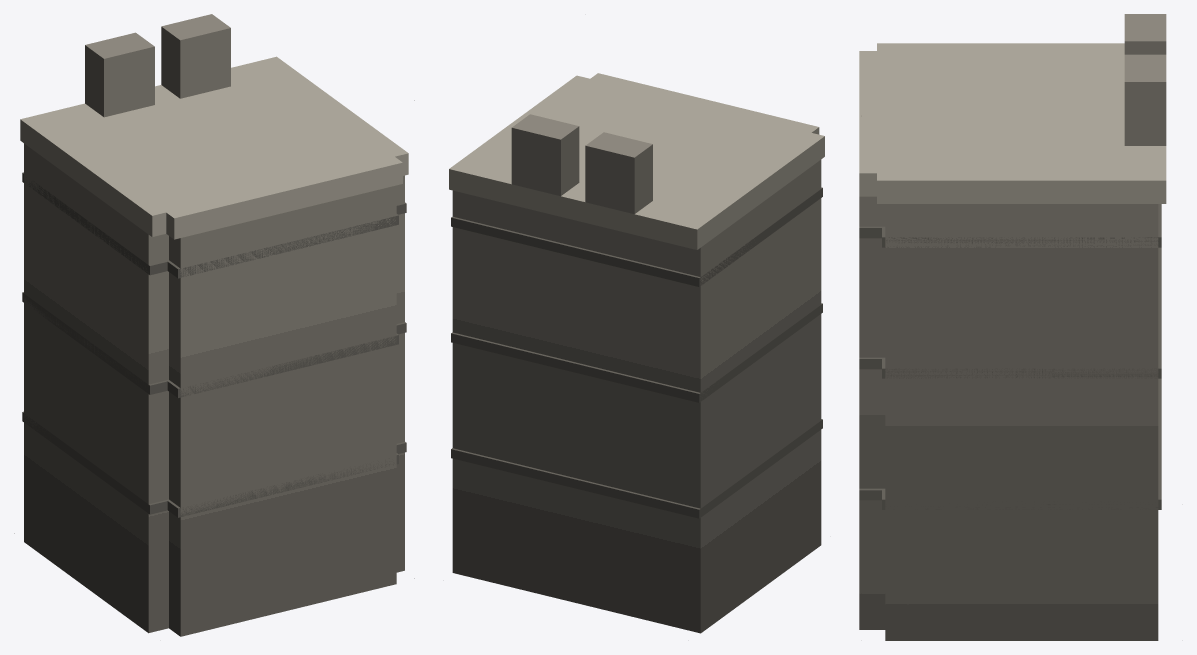
Rendered from perimeter_wall_stone_tee.glb.
3 renders of one model, left to right at view 1: azimuth 30°, elevation 25°; view 2: azimuth 150°, elevation 25°; view 3: azimuth 270°, elevation 25°, orthographic. The views are drawn at different scales.
Size of the model in its own units: 2.02 by 3.6 by 2.01.
Materials: 1 (1 with a texture image).
